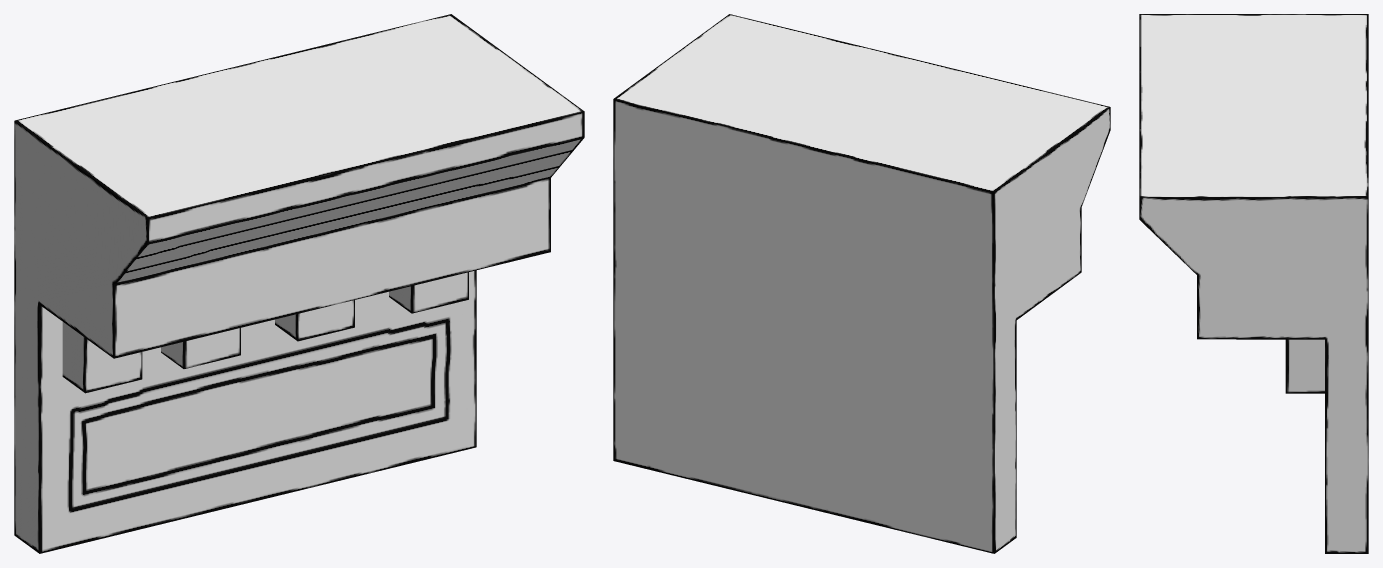
Rendered from Trim02_short.glb.
The picture shows the model from 3 angles, left to right: view 1: azimuth 30°, elevation 25°; view 2: azimuth 150°, elevation 25°; view 3: azimuth 270°, elevation 25°; orthographic projection. The views are drawn at different scales.
Parts seen in each view (by area): view 1: Trim02_short; view 2: Trim02_short; view 3: Trim02_short.
Part boxes in pixels (x1,y1,x2,y2): Trim02_short: [14, 14, 584, 553]; Trim02_short: [613, 14, 1110, 553]; Trim02_short: [1139, 14, 1368, 553].
Bounding box in the file's own units: 0.9996 × 0.9062 × 0.5279.
Materials: 1 (1 with a texture image).
